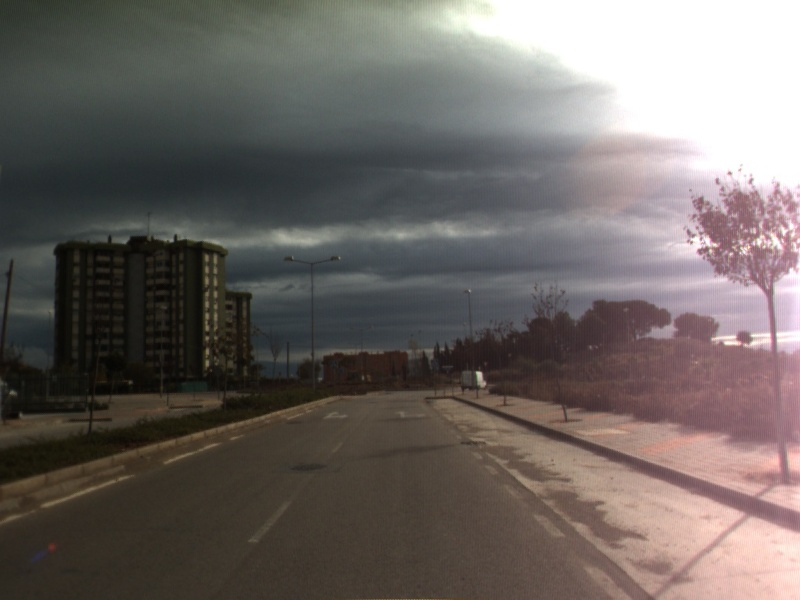STRAIGHT_RIGHT: (393, 408, 428, 420), (321, 409, 351, 421)
